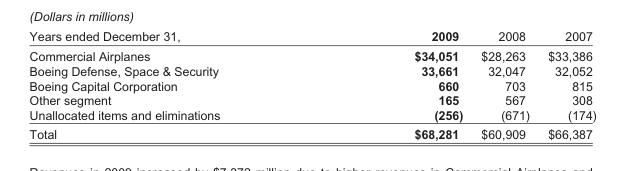table: (28, 28, 595, 140)
table column: (28, 28, 316, 140), (316, 28, 471, 140), (471, 28, 538, 140), (538, 28, 595, 140)
table column header: (28, 28, 595, 45)
table row: (28, 28, 595, 45), (28, 45, 595, 62), (28, 123, 595, 140), (28, 107, 595, 123), (28, 62, 595, 77), (28, 77, 595, 92), (28, 92, 595, 107)
